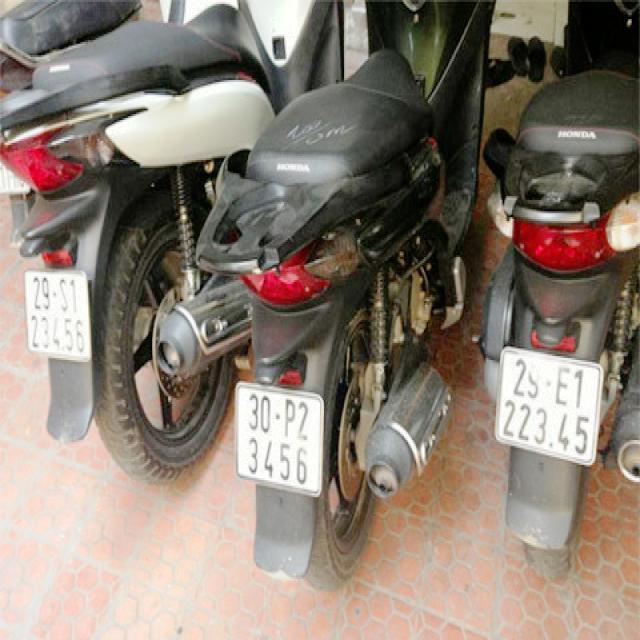license_plate: (497, 353, 600, 461), (237, 384, 324, 495), (27, 273, 91, 359)
